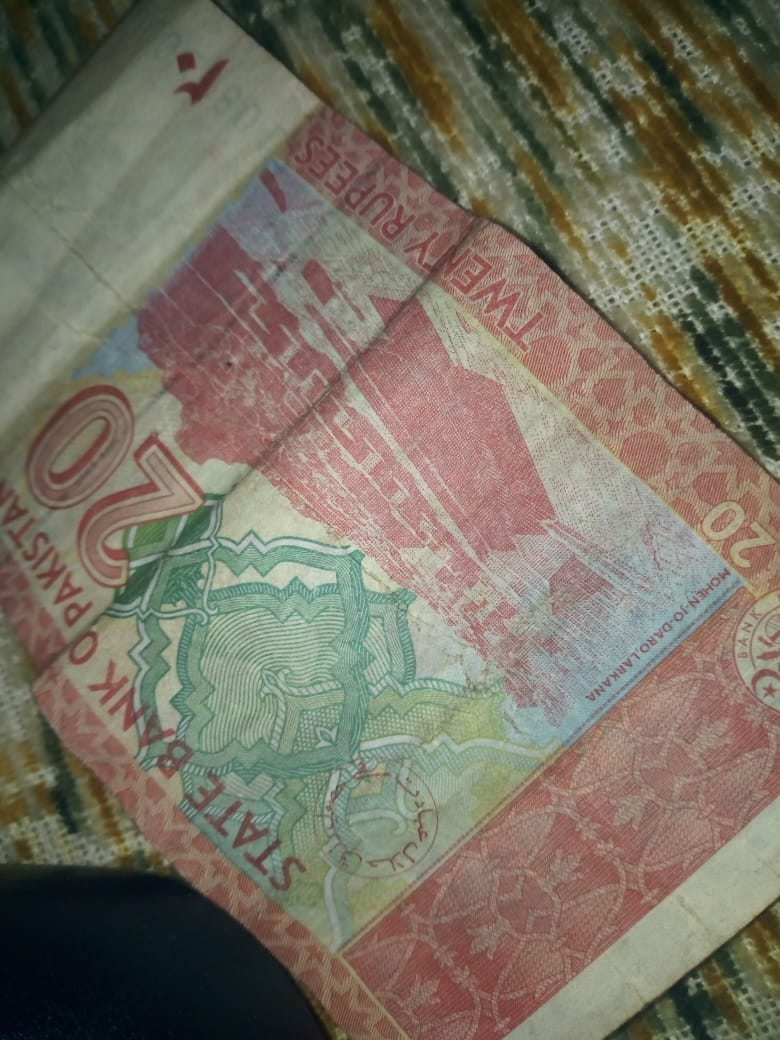20 rupee: (20, 15, 766, 1020)
